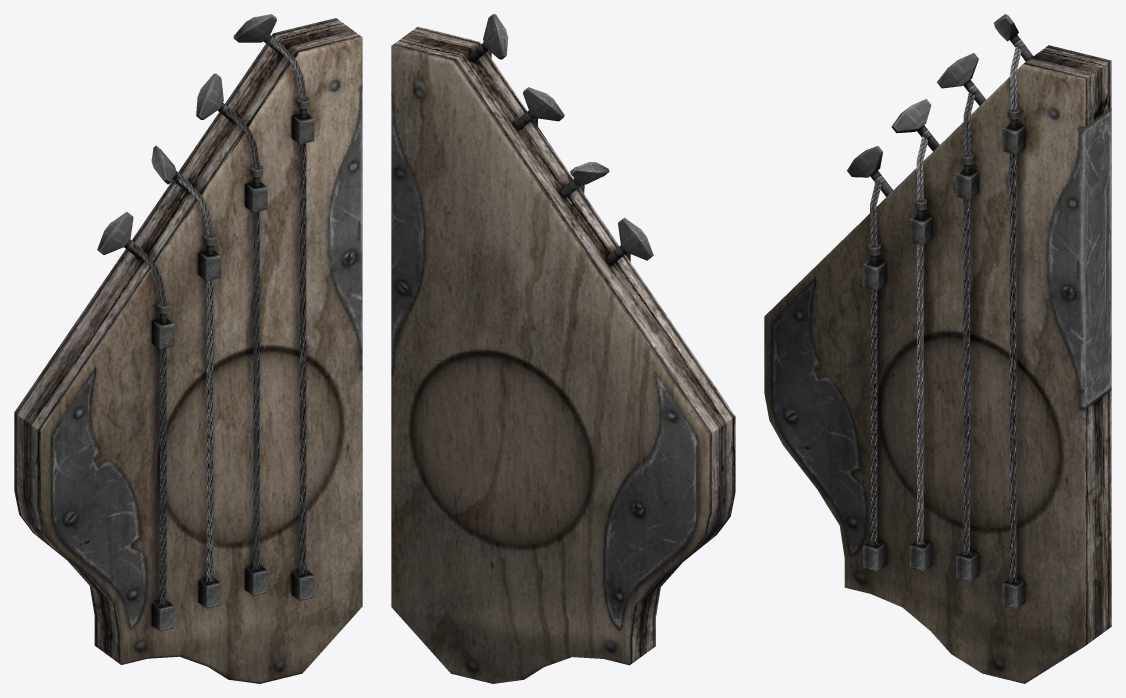
Rendered from music_instrument_string.dae.
3 views of the same model, side by side, from view 1: azimuth 30°, elevation 25°; view 2: azimuth 150°, elevation 25°; view 3: azimuth 330°, elevation 25° (orthographic).
Visible parts, largest first — view 1: music_instrument_string; view 2: music_instrument_string; view 3: music_instrument_string.
Boxes of the visible parts, <box> form: music_instrument_string: <box>14,14,362,683</box>; music_instrument_string: <box>391,14,735,683</box>; music_instrument_string: <box>764,14,1111,683</box>.
Bounding box in the file's own units: 0.2938 × 0.5755 × 0.0608.
